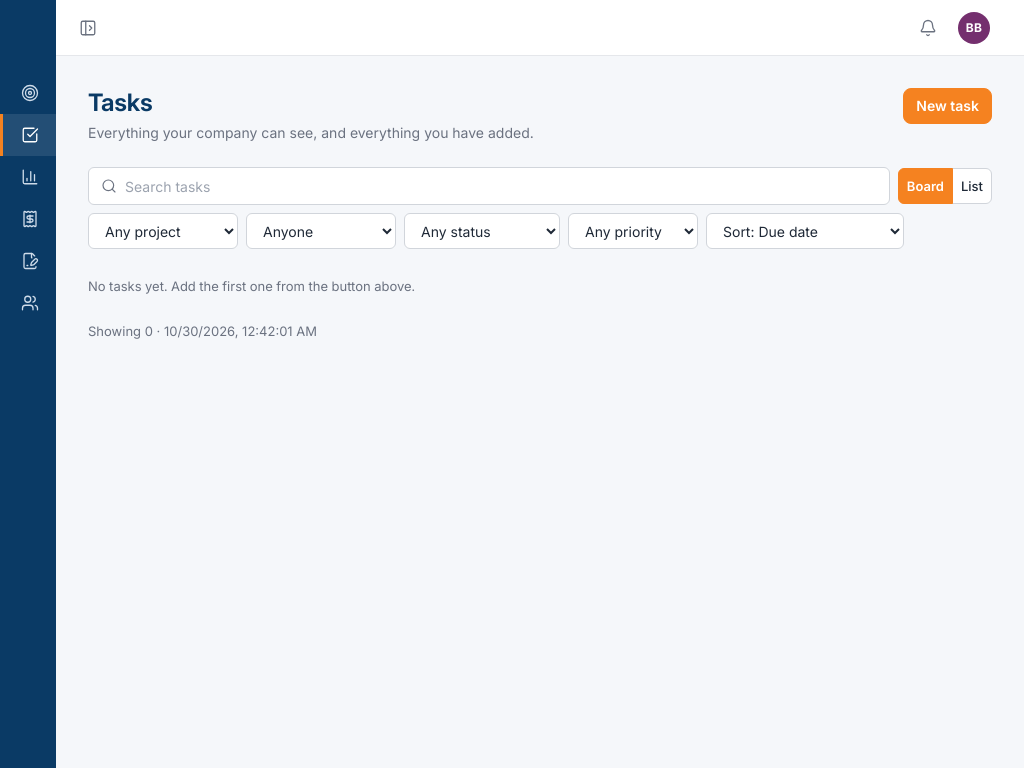
it: the top bar › gives a client owner Act as a colleague in the menu, and no one else
The width and height of the screenshot is (1024, 768).
Expected: the header named "Top bar" is shown, x1=56 y1=0 x2=1023 y2=56
Click the button with aria-label "Your account" at (974, 28), box x1=956 y1=10 x2=992 y2=46
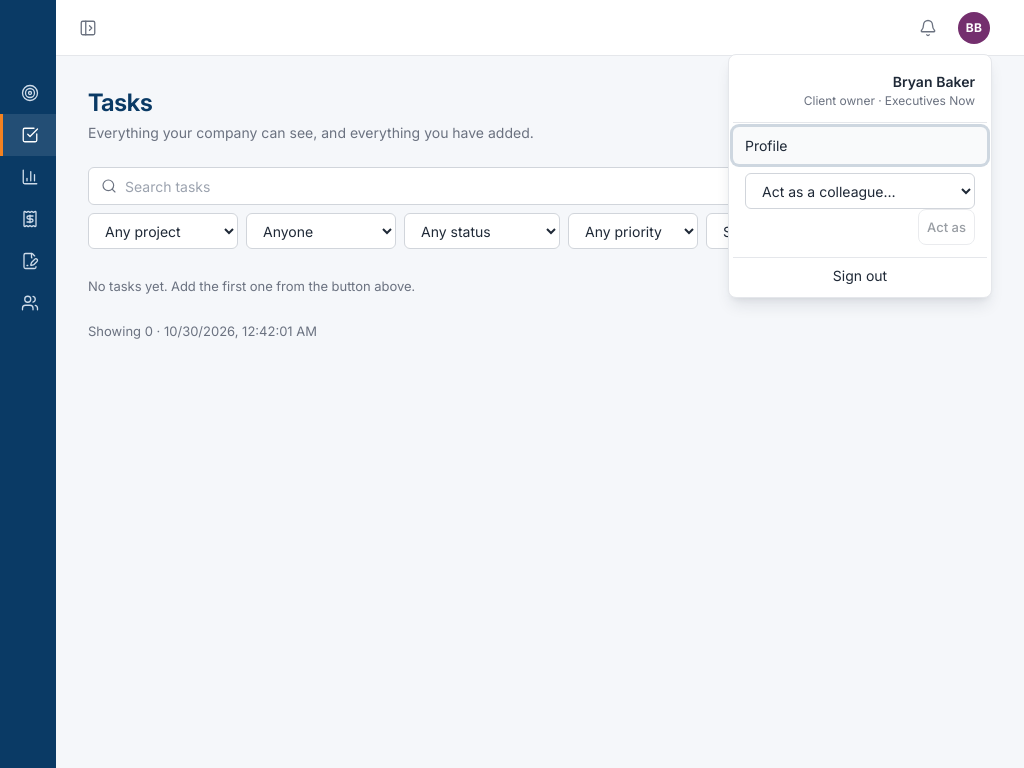
Expected: the dropdown named "Act as a colleague" is shown, x1=745 y1=173 x2=975 y2=209
Expected: the menu item "Sign out" is shown, x1=733 y1=257 x2=987 y2=293
